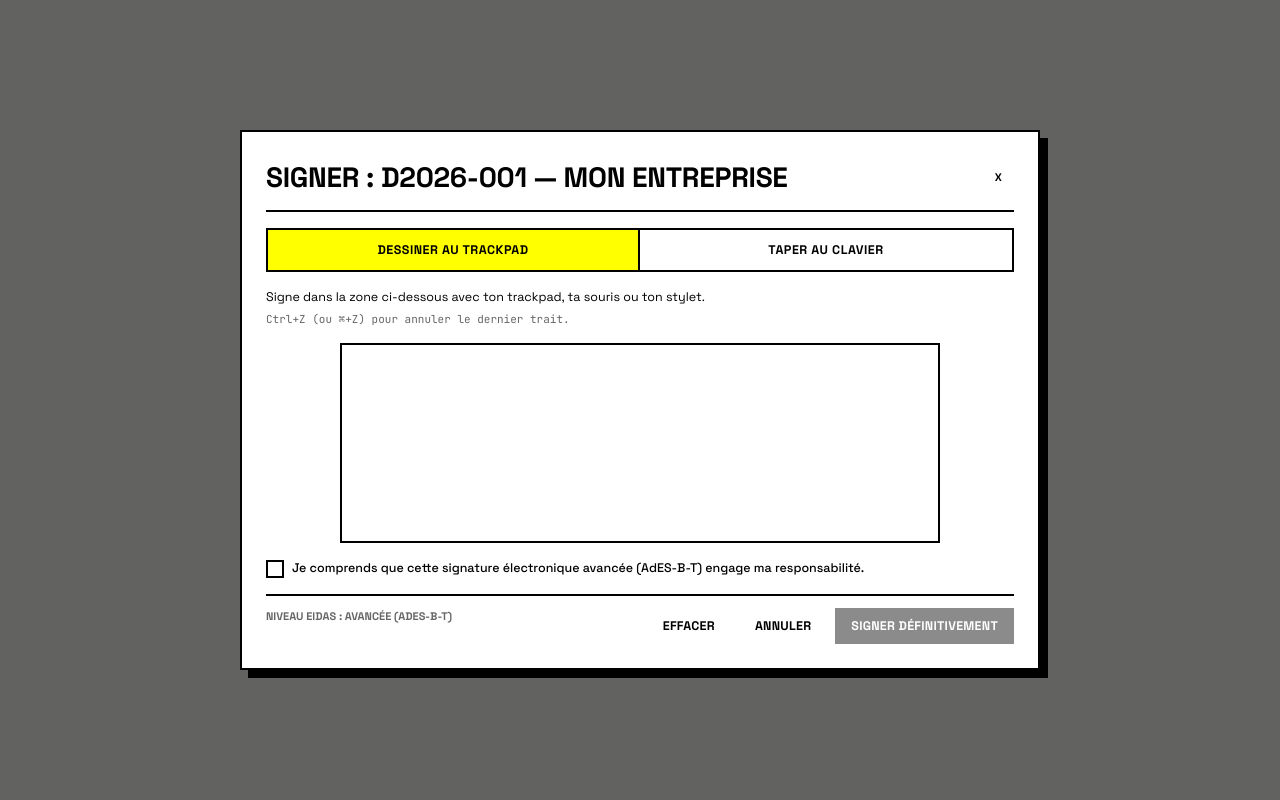
Test: SignatureModal › refuse l'envoi avec signature vide
Click the checkbox with test id "signature-modal-ack": click(565, 569) [266,560,864,578]
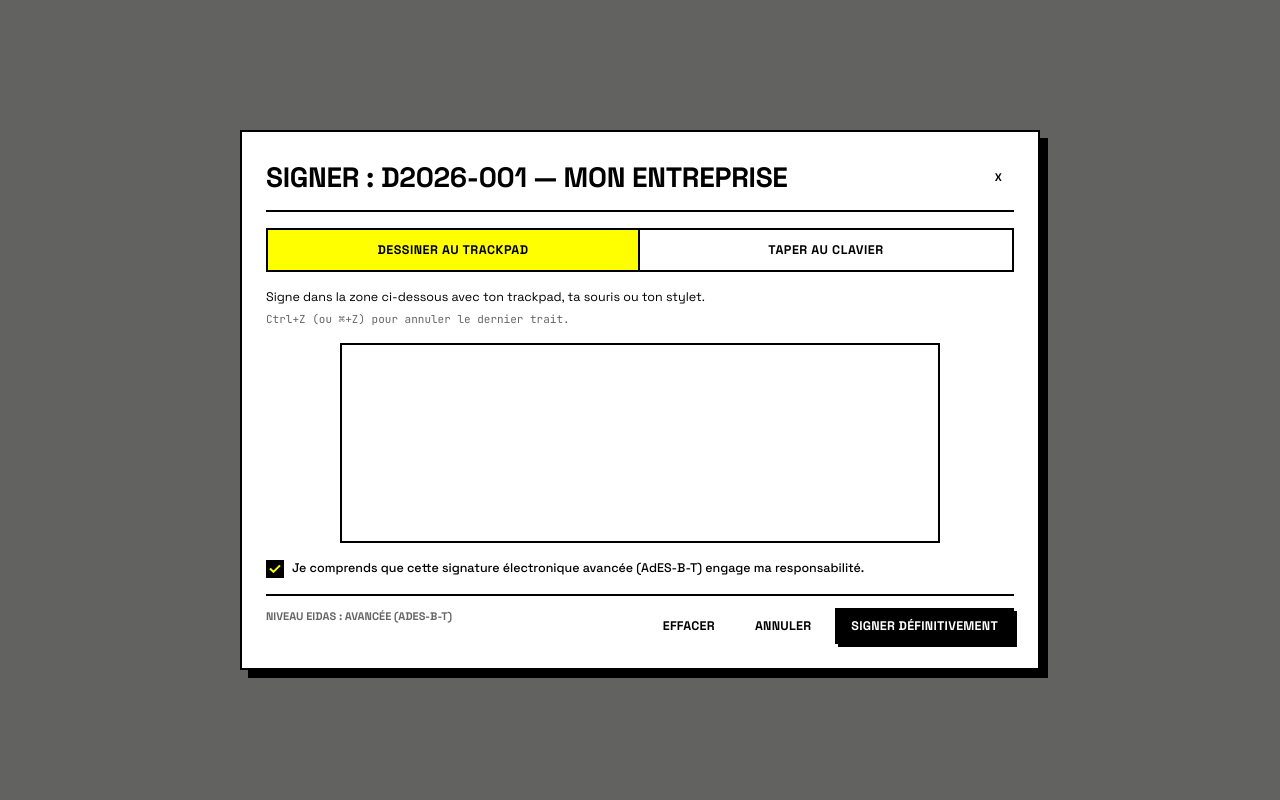
Click the button with test id "signature-modal-submit": click(925, 626) [835,608,1014,644]
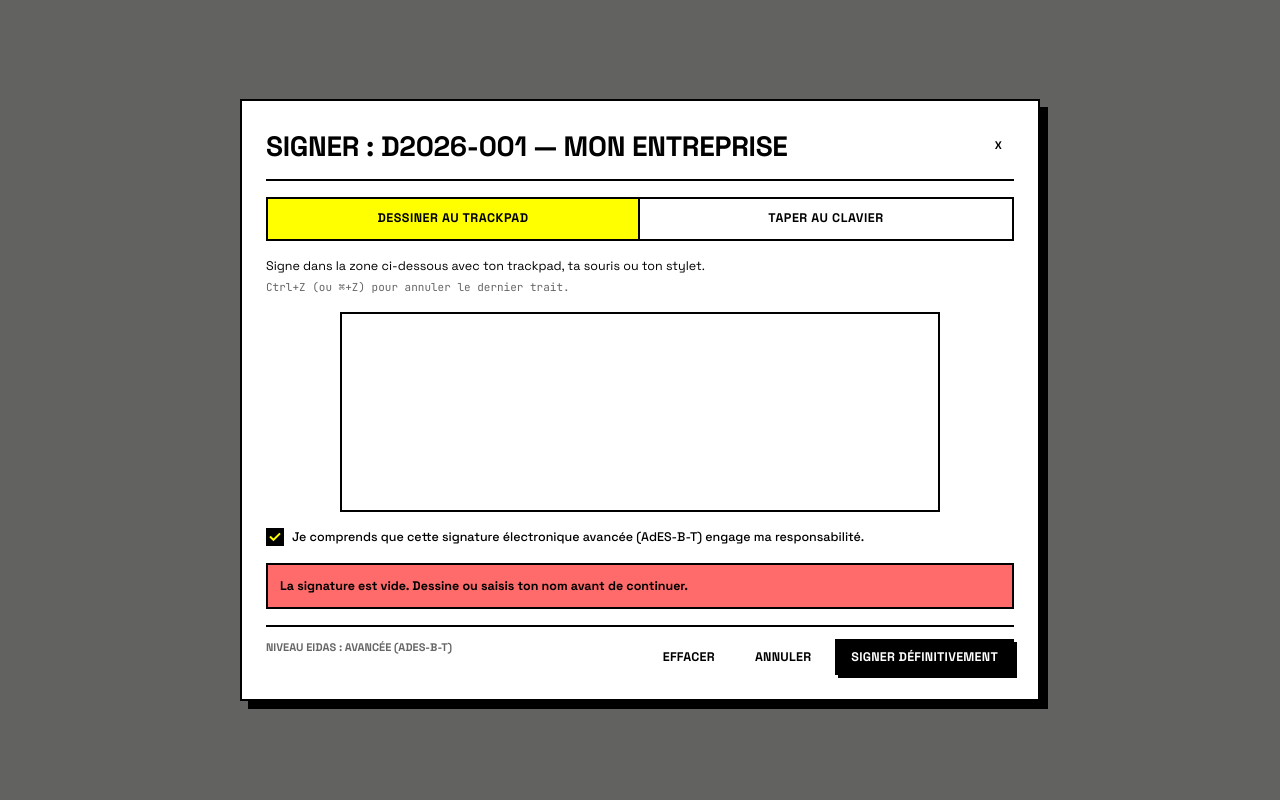
Check: the message "La signature est vide. Dessine ou saisis ton nom avant de continuer." is shown, box [266,563,1014,609]
